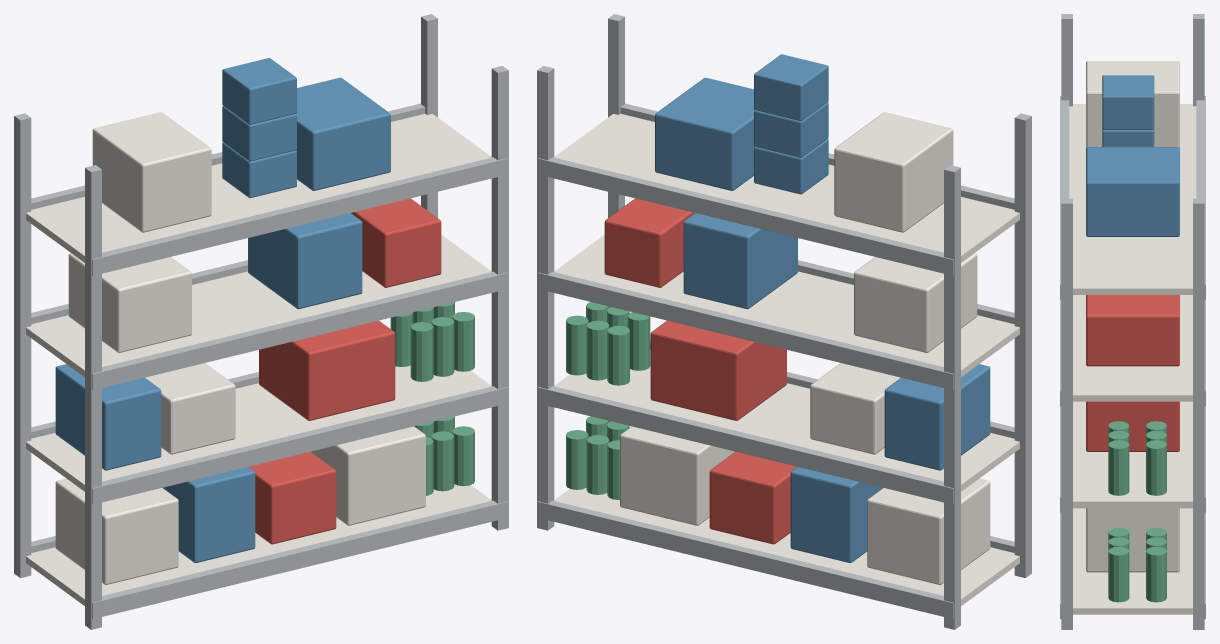
The model's file is parts-shelf.glb.
3 views of the same model, side by side, from view 1: azimuth 30°, elevation 25°; view 2: azimuth 150°, elevation 25°; view 3: azimuth 270°, elevation 25° (orthographic). The views are drawn at different scales.
Parts seen in each view (by area): view 1: car-repair-garage-and-mot-workshop-parts-shelving-stocked; view 2: car-repair-garage-and-mot-workshop-parts-shelving-stocked; view 3: car-repair-garage-and-mot-workshop-parts-shelving-stocked.
Boxes of the visible parts, bbox=[...] form: car-repair-garage-and-mot-workshop-parts-shelving-stocked: bbox=[14, 14, 508, 629]; car-repair-garage-and-mot-workshop-parts-shelving-stocked: bbox=[537, 14, 1031, 629]; car-repair-garage-and-mot-workshop-parts-shelving-stocked: bbox=[1060, 14, 1205, 629].
Size of the model in its own units: 1.91 by 2.1 by 0.62.
